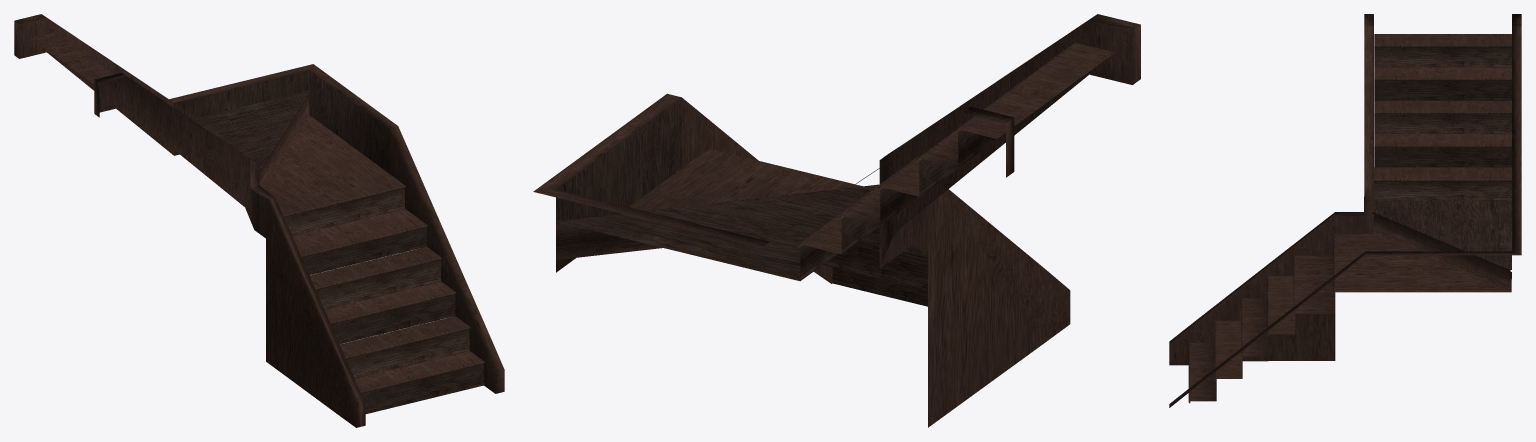
The model's file is spiral_stairs.glb.
3 renders of one model, left to right at view 1: azimuth 30°, elevation 25°; view 2: azimuth 150°, elevation 25°; view 3: azimuth 270°, elevation 25°, orthographic. The views are drawn at different scales.
Parts seen in each view (by area): view 1: LP_Step_Trim, LP_Window_Steps, LP_Steps, LP_Steps1, LP_Steps3; view 2: LP_Step_Trim, LP_Window_Steps, LP_Steps3, LP_Steps2, LP_Steps1, LP_Steps; view 3: LP_Window_Steps, LP_Step_Trim, LP_Steps2, LP_Steps3, LP_Steps1, LP_Steps.
Boxes of the visible parts, x1,y1,x2,y2 form: LP_Step_Trim: (14, 14, 504, 427); LP_Window_Steps: (192, 90, 427, 275); LP_Steps: (309, 247, 456, 344); LP_Steps1: (339, 316, 484, 413); LP_Steps3: (30, 32, 113, 85); LP_Step_Trim: (533, 14, 1140, 427); LP_Window_Steps: (556, 148, 933, 281); LP_Steps3: (917, 42, 1114, 196); LP_Steps2: (839, 139, 998, 253); LP_Steps1: (823, 253, 927, 306); LP_Steps: (843, 228, 927, 273); LP_Window_Steps: (1293, 167, 1511, 315); LP_Step_Trim: (1169, 14, 1521, 407); LP_Steps2: (1374, 100, 1511, 167); LP_Steps3: (1374, 34, 1511, 100); LP_Steps1: (1188, 320, 1242, 403); LP_Steps: (1241, 276, 1295, 358).
Bounding box in the file's own units: 1.81 × 1.75 × 2.
Materials: 1 (1 with a texture image).
